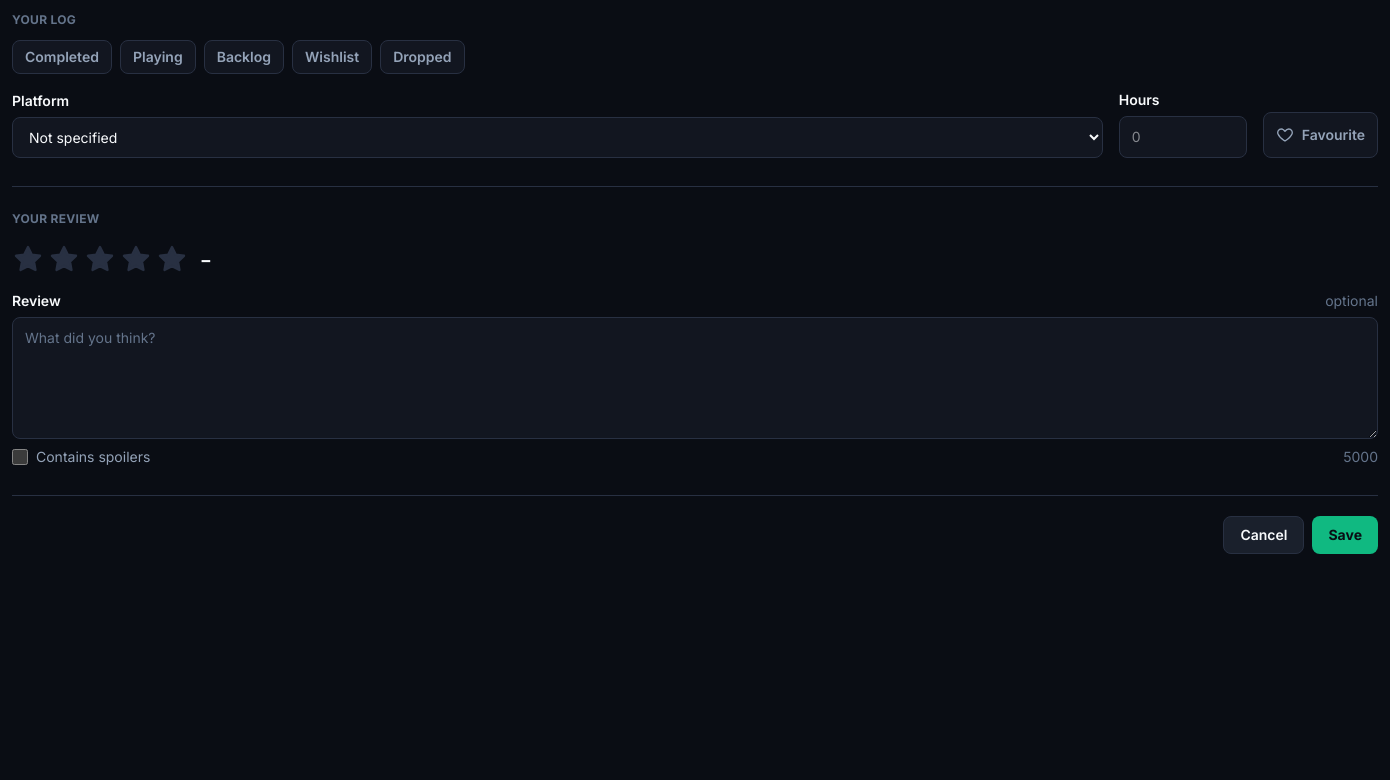
Test: LogGameForm › counts the characters left in the review
Type "Hello" into the text box with test id "body" at (695, 378), box [12,317,1378,439]
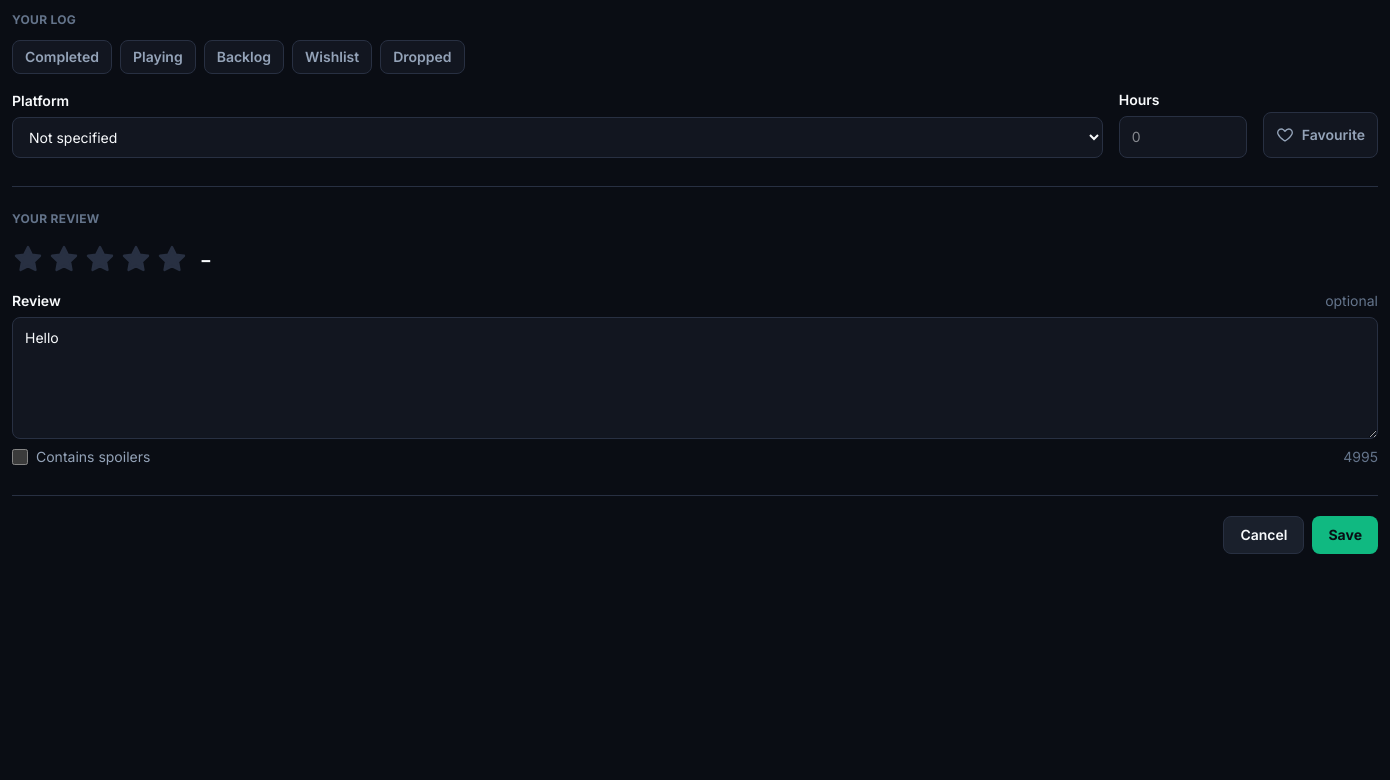
Check: the text with test id "remaining" reads "4995", box [1343,448,1378,465]
